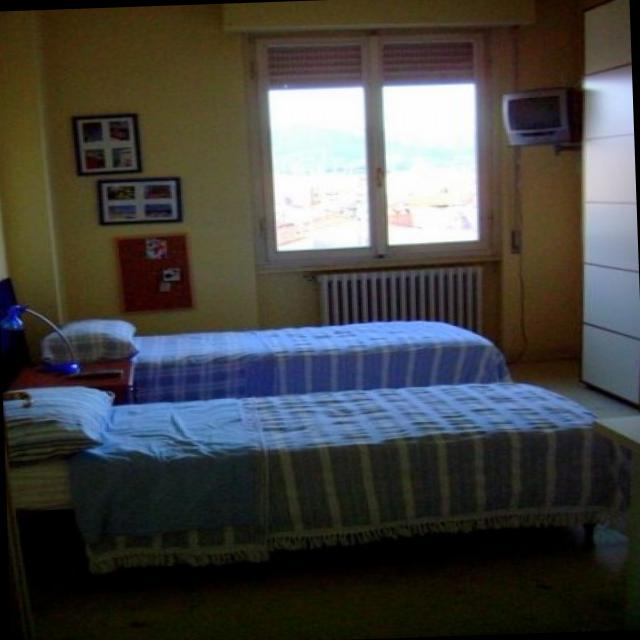Bed skirt: (9, 380, 627, 565), (43, 318, 511, 403)
Lamp: (2, 303, 78, 375)
Picture Frame: (98, 176, 180, 226), (71, 114, 140, 173)
TV: (502, 86, 579, 146)
Window: (255, 33, 492, 266)
radiator occluded: (313, 267, 484, 333)
